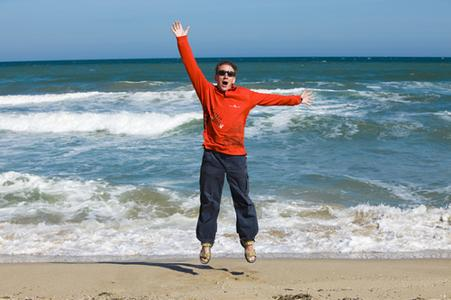person: (171, 22, 315, 265)
